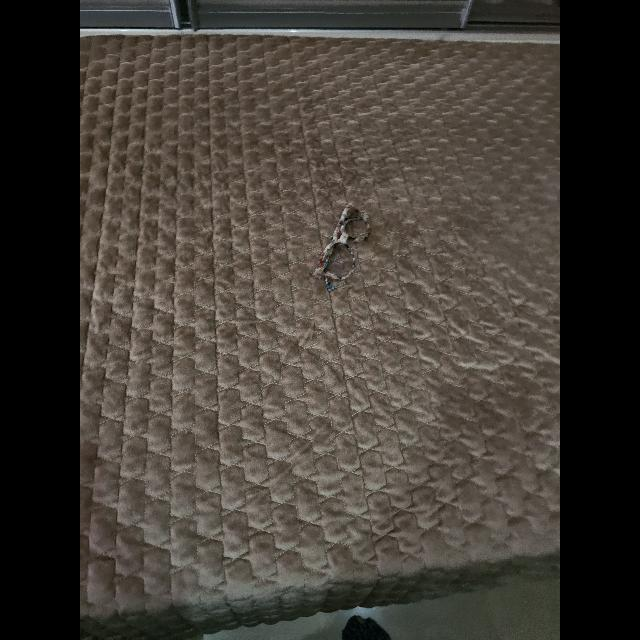glasses: (314, 203, 371, 291)
